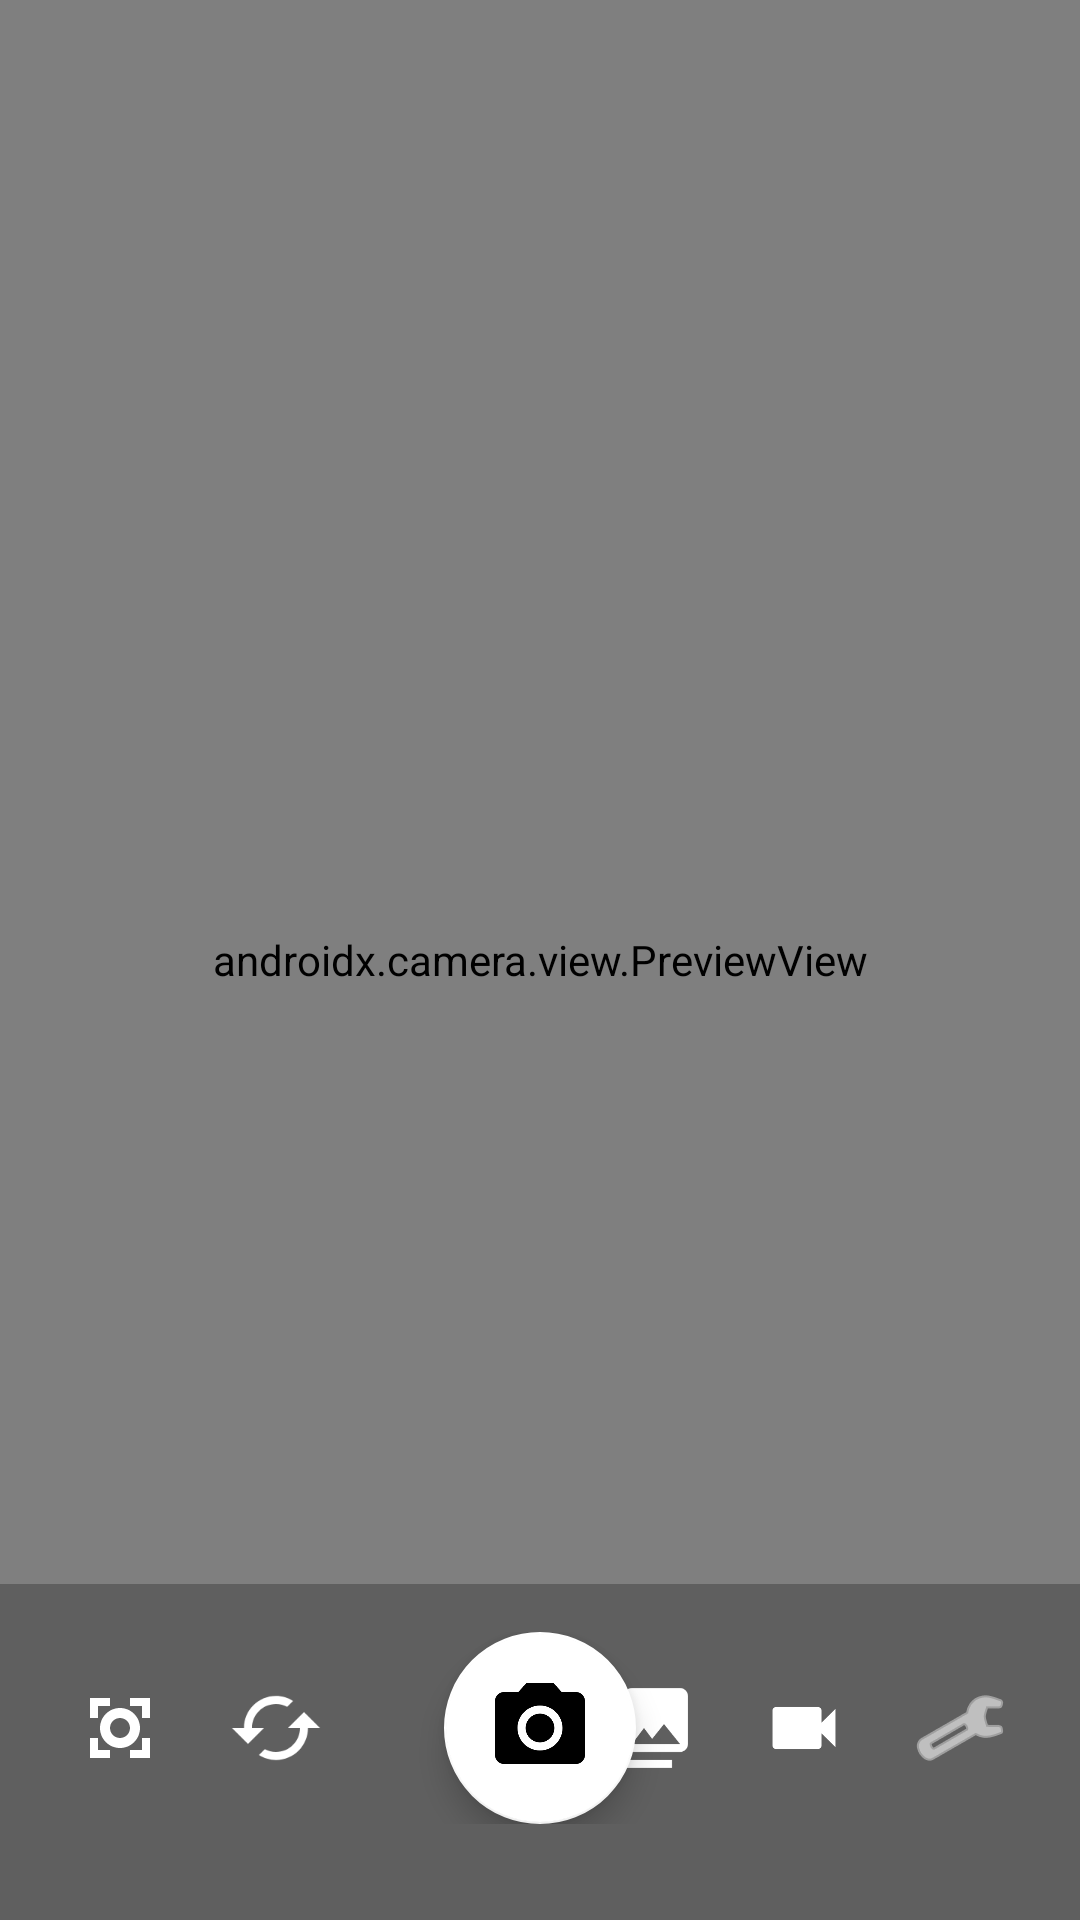

Point at icon controls on the screen. Image size 1080*1920, points as point (x, y).
Record: point (804, 1728)
Scan QR Code: point (120, 1728)
Settings: point (960, 1728)
Switch Camera: point (276, 1728)
